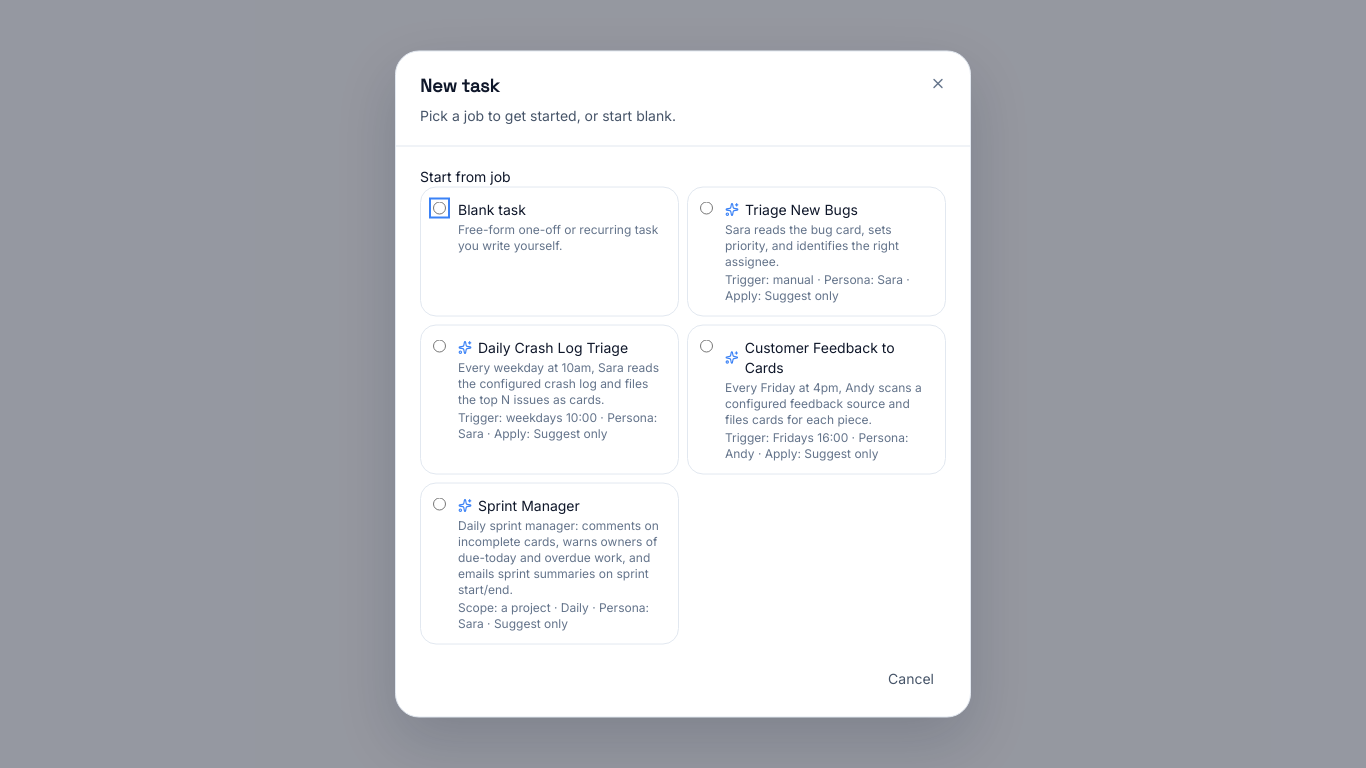
it: NewTaskDialog › blocks submit when title is missing
This screenshot has width=1366, height=768.
Click the radio button with test id "job-picker-blank": (440, 208) [433,202,446,214]
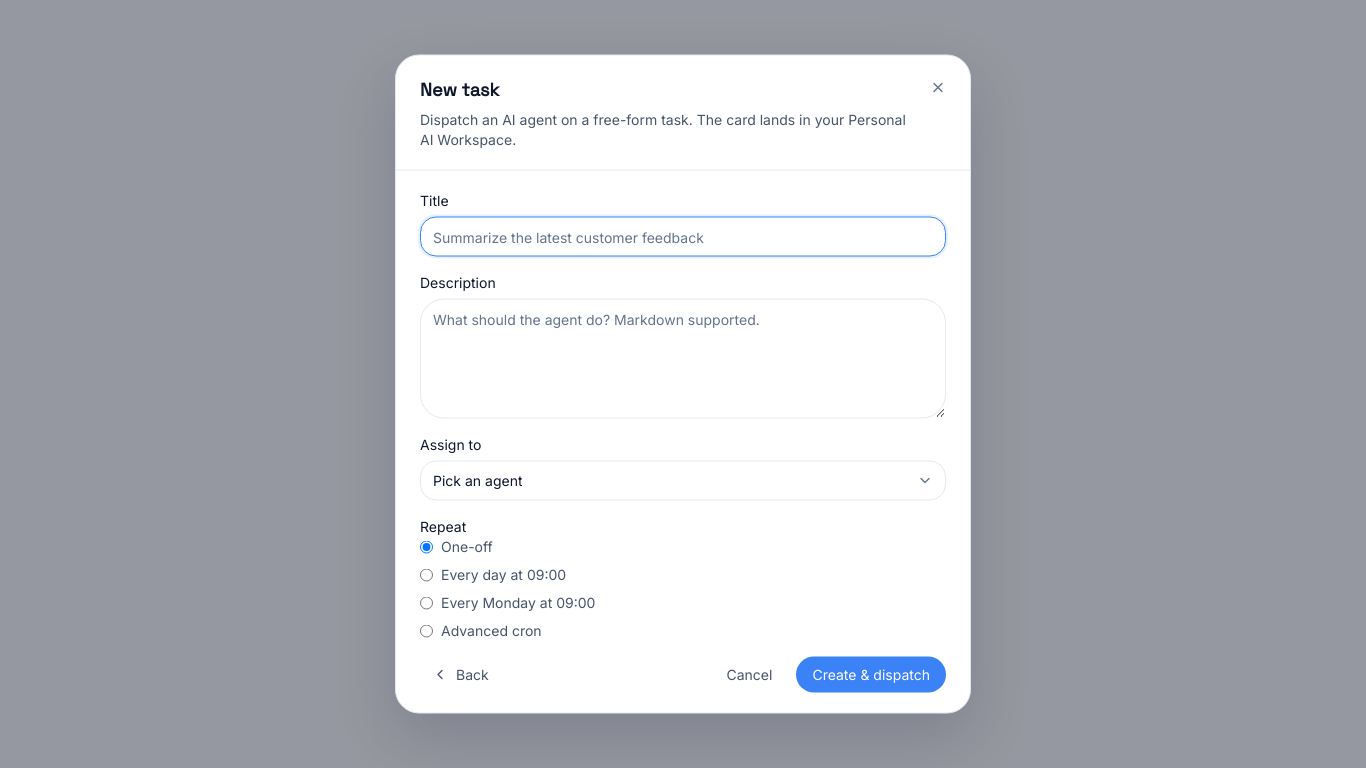
Click the button "Create & dispatch": (871, 674) [796,656,946,692]
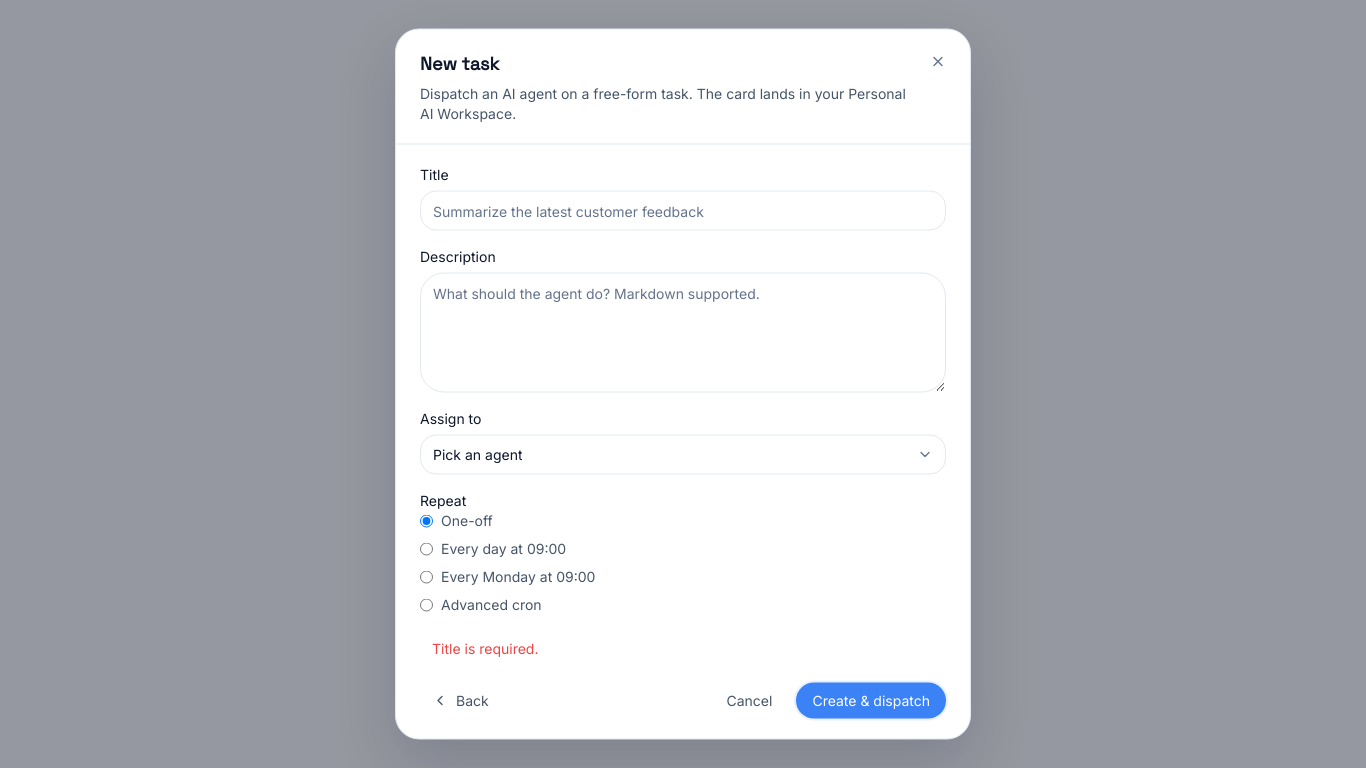
Now the text "Title is required." is shown, box [432,640,538,656]
